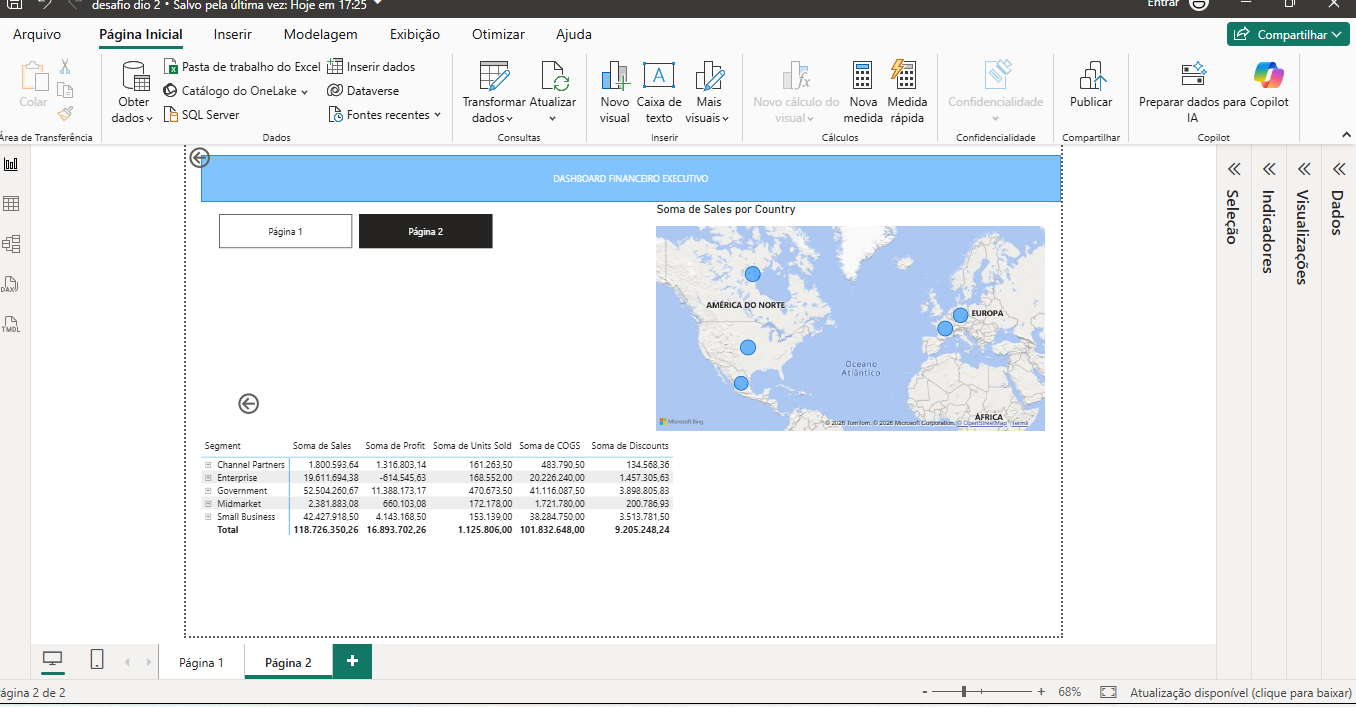

This screenshot's page, from the dashboard's own definition file:
{"tool":"powerbi","page":{"name":"Página 2","canvas":[1280,720],"ordinal":1},"visuals":[{"type":"shape","box":[21.8,16.8,1258.2,68.9],"z":0},{"type":"map","fields":{"Category":["financials.Country"],"Size":["Sum(financials. Sales)"]},"box":[683.7,85.2,579.3,340.8],"z":1},{"type":"pivotTable","fields":{"Rows":["financials.Segment","financials.Country"],"Values":["Sum(financials. Sales)","Sum(financials.Profit)","Sum(financials.Units Sold)","Sum(financials.COGS)","Sum(financials.Discounts)"]},"box":[17,426,711.3,168.3],"z":2},{"type":"actionButton","box":[0,0,100,40],"z":3},{"type":"actionButton","box":[72.4,359.9,100,40],"z":4},{"type":"pageNavigator","box":[49,102.2,400,50],"z":5}]}

Visuals, with their boxes on the page's 1280x720 design canvas (x1, y1, x2, y2). These are canvas units, not pixel positions in the 1356x707 screenshot, which may show the page scaled, cropped or inside an application window:
shape: (x1=22, y1=17, x2=1280, y2=86)
map - financials.Country x Sum(financials. Sales): (x1=684, y1=85, x2=1263, y2=426)
pivotTable - financials.Segment x financials.Country: (x1=17, y1=426, x2=728, y2=594)
actionButton: (x1=0, y1=0, x2=100, y2=40)
actionButton: (x1=72, y1=360, x2=172, y2=400)
pageNavigator: (x1=49, y1=102, x2=449, y2=152)
